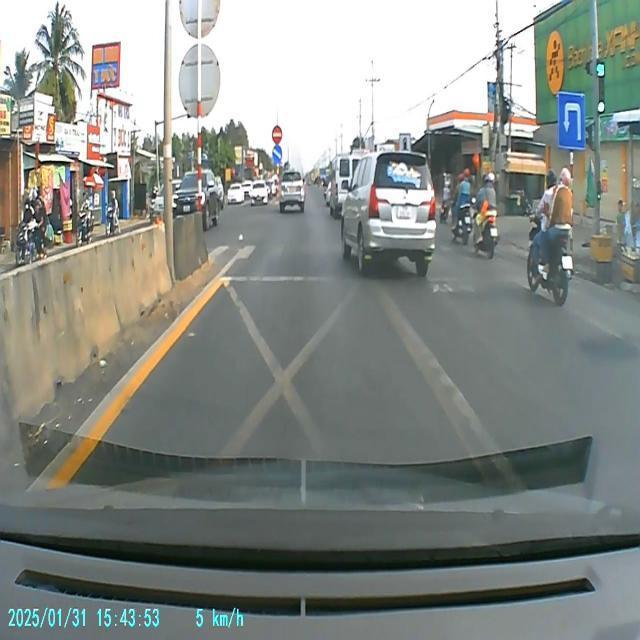102-cam-di-nguoc-chieu: (272, 123, 282, 144)
302a-huong-phai-di-vong-chuong-ngai-vat-1: (271, 146, 284, 165)
